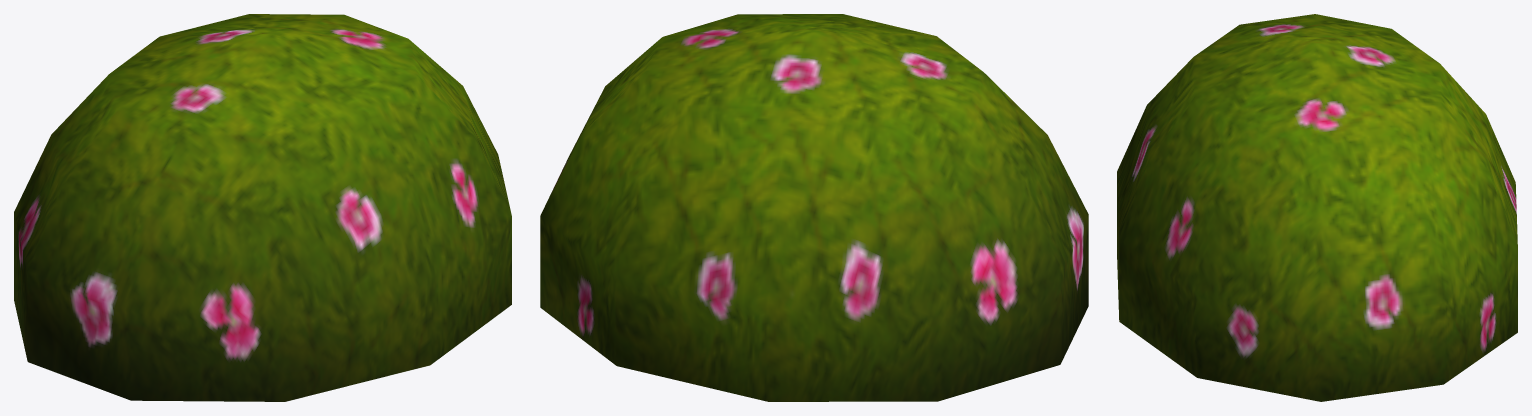
File: Bush_1b_atlas.fbx
The picture shows the model from 3 angles, left to right: view 1: azimuth 30°, elevation 25°; view 2: azimuth 150°, elevation 25°; view 3: azimuth 270°, elevation 25°; orthographic projection. The views are drawn at different scales.
Visible parts, largest first — view 1: polySurface139; view 2: polySurface139; view 3: polySurface139.
Boxes of the visible parts, x1,y1,x2,y2 form: polySurface139: [14, 14, 511, 401]; polySurface139: [540, 14, 1088, 401]; polySurface139: [1117, 14, 1517, 401].
Bounding box in the file's own units: 1.83 × 0.9815 × 1.43.
